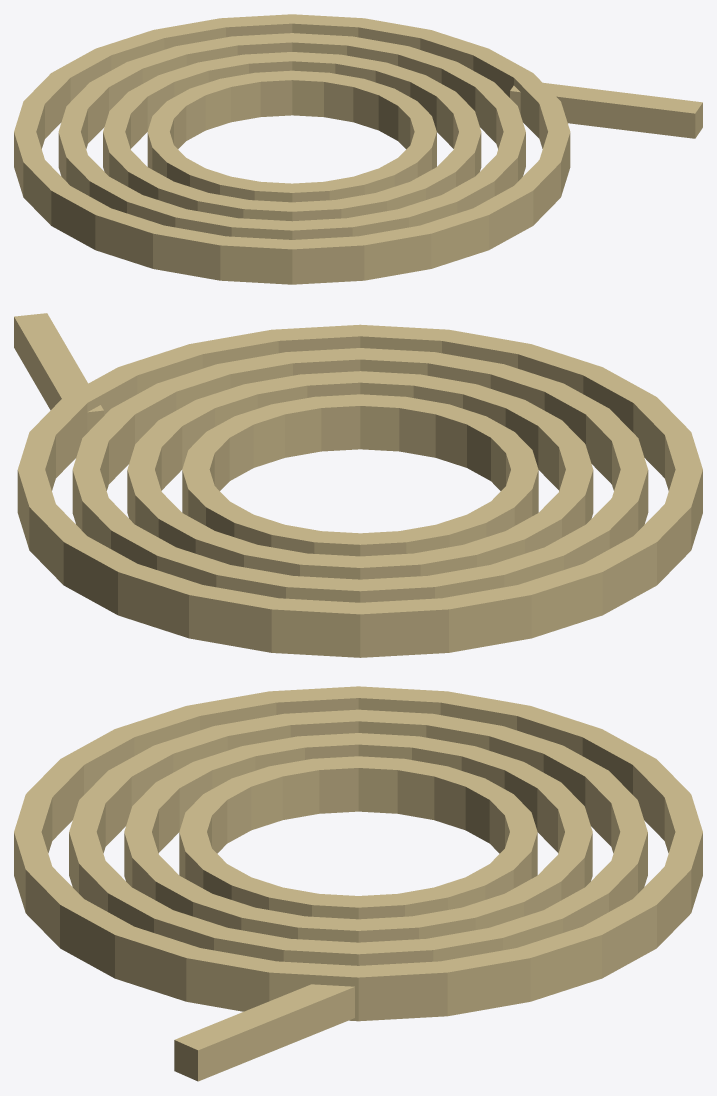
Rendered from rope-coil.glb.
3 renders of one model, top to bottom at view 1: azimuth 30°, elevation 25°; view 2: azimuth 150°, elevation 25°; view 3: azimuth 270°, elevation 25°, orthographic. The views are drawn at different scales.
Visible parts, largest first — view 1: rope-coil; view 2: rope-coil; view 3: rope-coil.
Part boxes in pixels (x1,y1,x2,y2): rope-coil: (14,14,702,284); rope-coil: (14,313,702,657); rope-coil: (14,686,702,1081).
Bounding box in the file's own units: 1.22 × 0.07 × 1.
